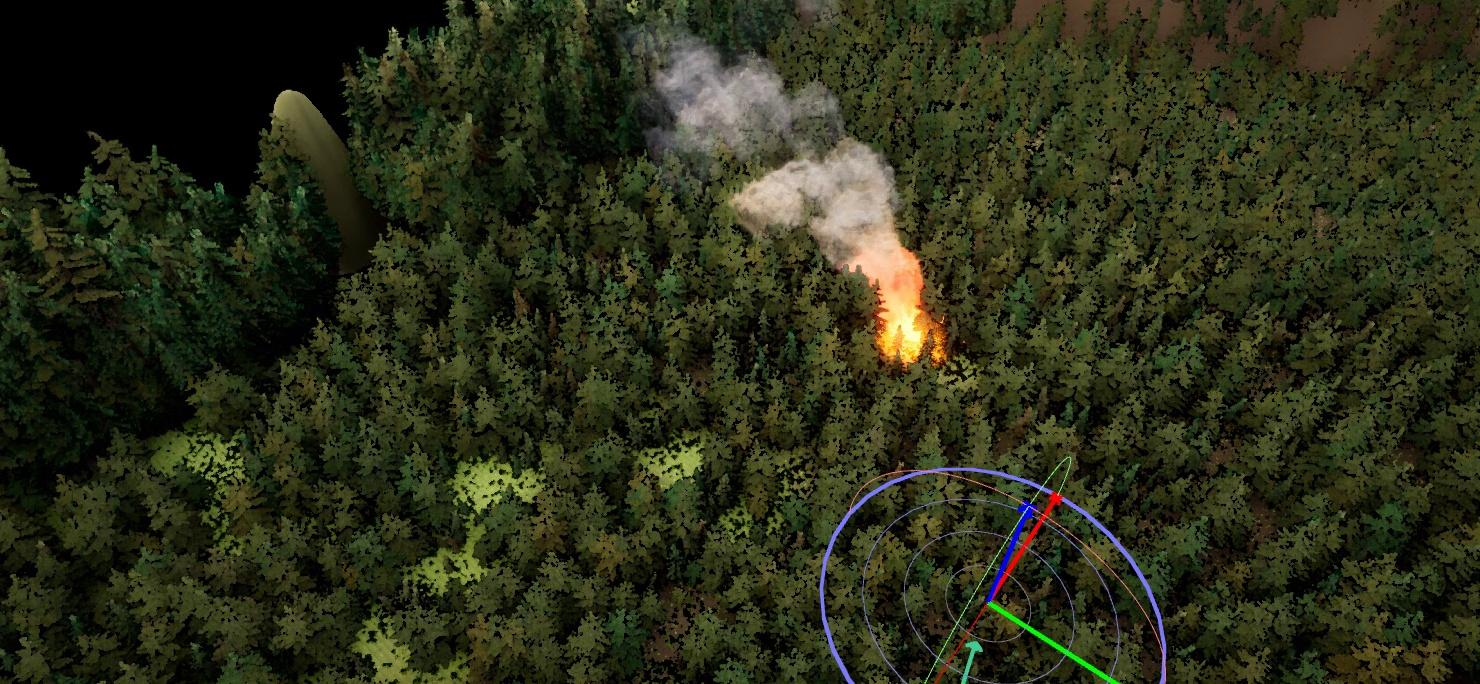fire: (864, 291, 949, 363)
smoke: (644, 40, 936, 293)
